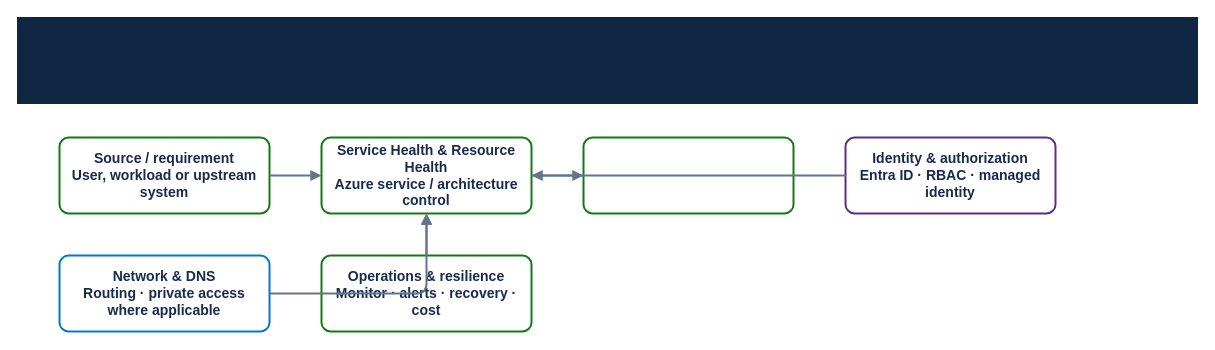
The diagram is 1215 pixels wide and 350 high, and some of its shapes have lost their labels. Each missing label, with the centre of its shape:
"Service Health & Resource Health" belongs at pixel 607 60.
"Workload / consumer Application, data or operational outcome" belongs at pixel 688 175.
